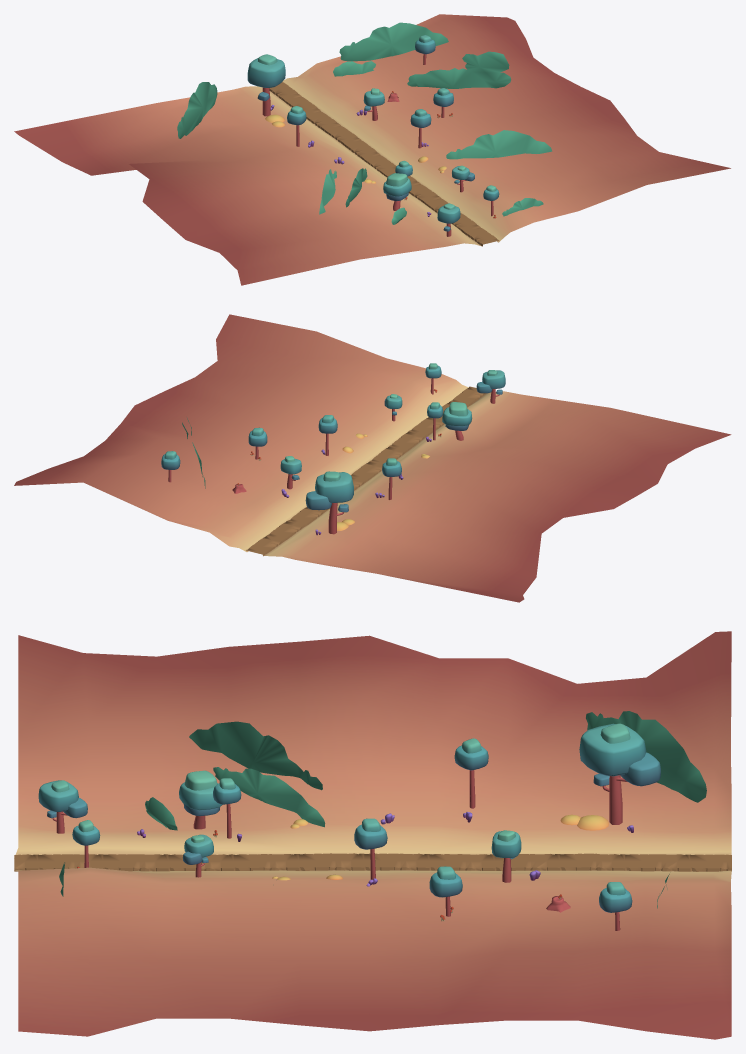
File: stage1a.gltf
3 renders of one model, top to bottom at view 1: azimuth 30°, elevation 25°; view 2: azimuth 150°, elevation 25°; view 3: azimuth 270°, elevation 25°, orthographic. The views are drawn at different scales.
Parts seen in each view (by area): view 1: stage1a_GEO:PIV; view 2: stage1a_GEO:PIV; view 3: stage1a_GEO:PIV.
Part boxes in pixels (x1=…): stage1a_GEO:PIV: x1=14, y1=14, x2=730, y2=285; stage1a_GEO:PIV: x1=14, y1=314, x2=731, y2=602; stage1a_GEO:PIV: x1=14, y1=631, x2=731, y2=1039.
Size of the model in its own units: 27732 by 3789 by 21009.
2 materials, 2 textured.
